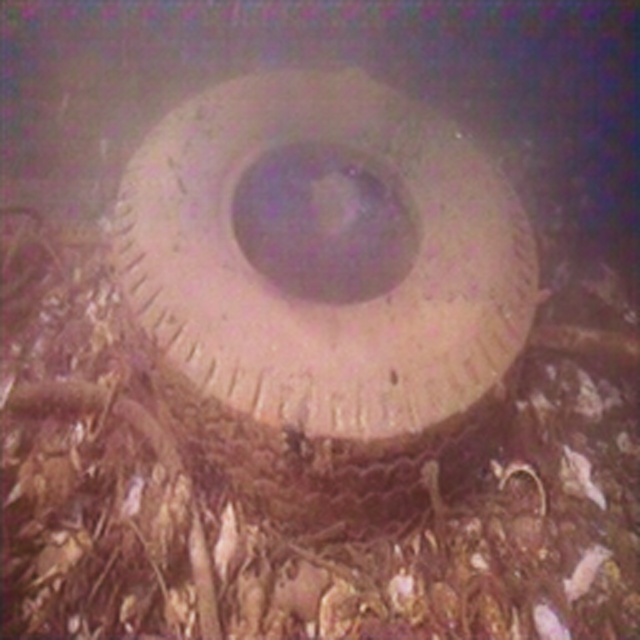mine: (112, 66, 537, 551)
